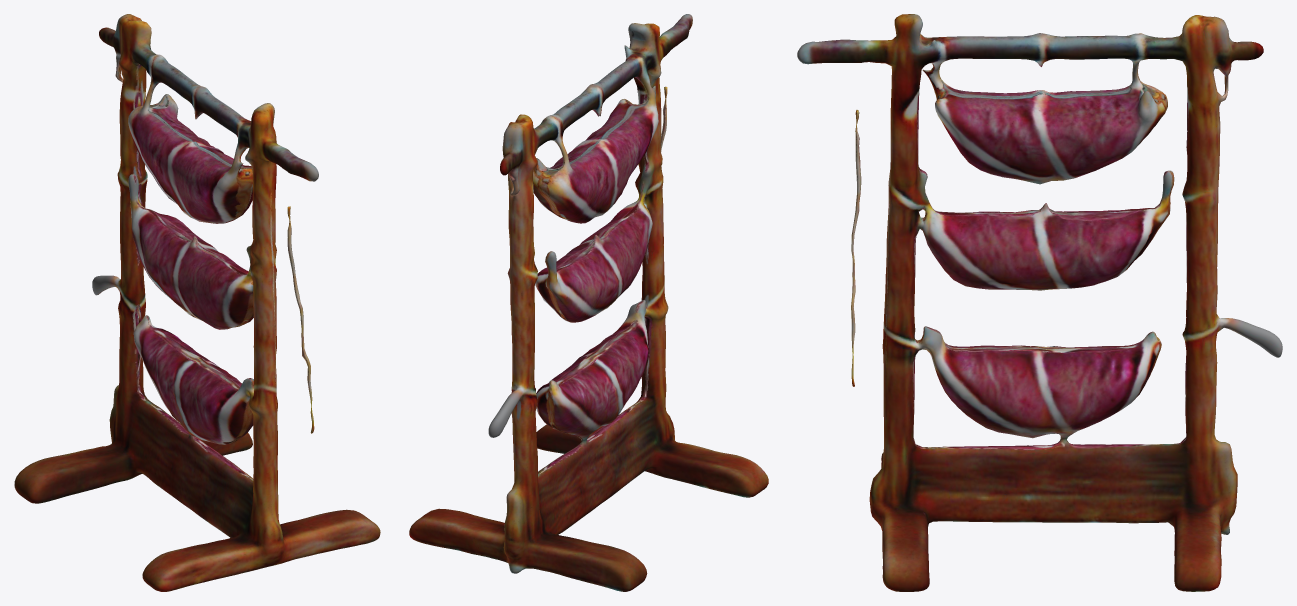
The model's file is Meat rack.fbx.
3 views of the same model, side by side, from view 1: azimuth 30°, elevation 25°; view 2: azimuth 150°, elevation 25°; view 3: azimuth 270°, elevation 25° (orthographic). The views are drawn at different scales.
Parts seen in each view (by area): view 1: mesh; view 2: mesh; view 3: mesh.
Part boxes in pixels (box(x1,y1,x2,y2)): mesh: box(14, 14, 380, 591); mesh: box(409, 14, 768, 591); mesh: box(797, 14, 1282, 591).
Bounding box in the file's own units: 51.8 × 99.53 × 83.7.
